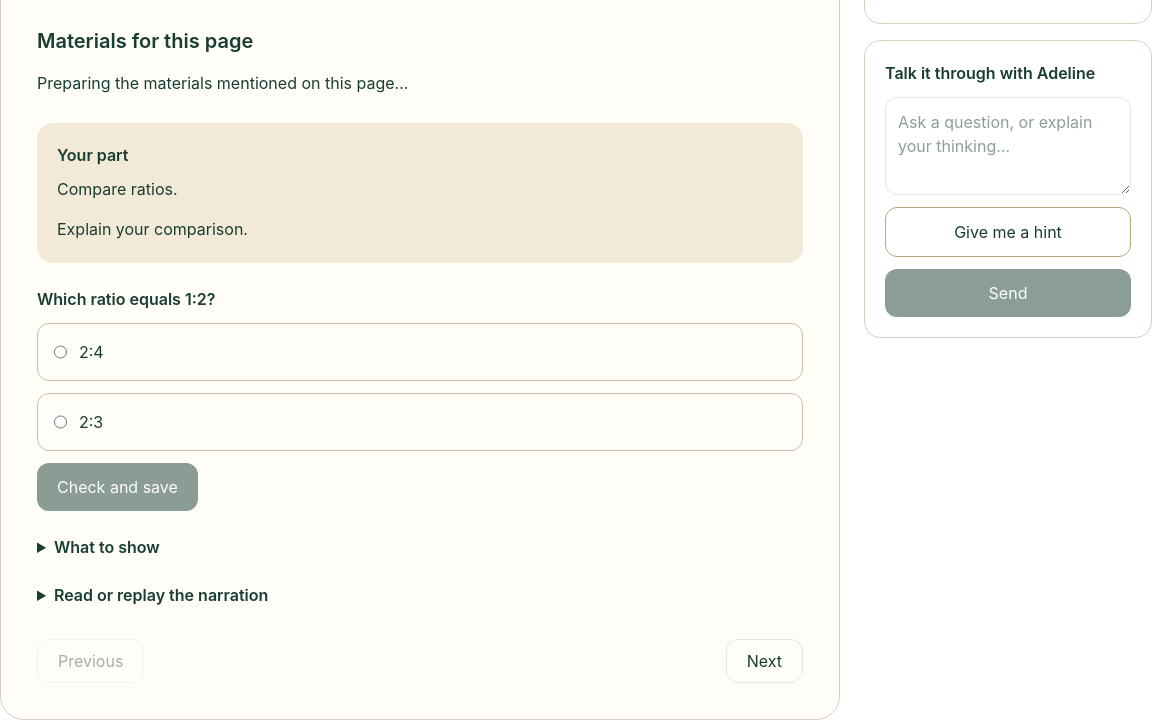
Scenario: Fresh classroom › loads actual promised examples and keeps a slow response on its original page
(page scrolled)
Click the button "Next": (764, 661) left=726, top=639, right=803, bottom=683
(page scrolled)
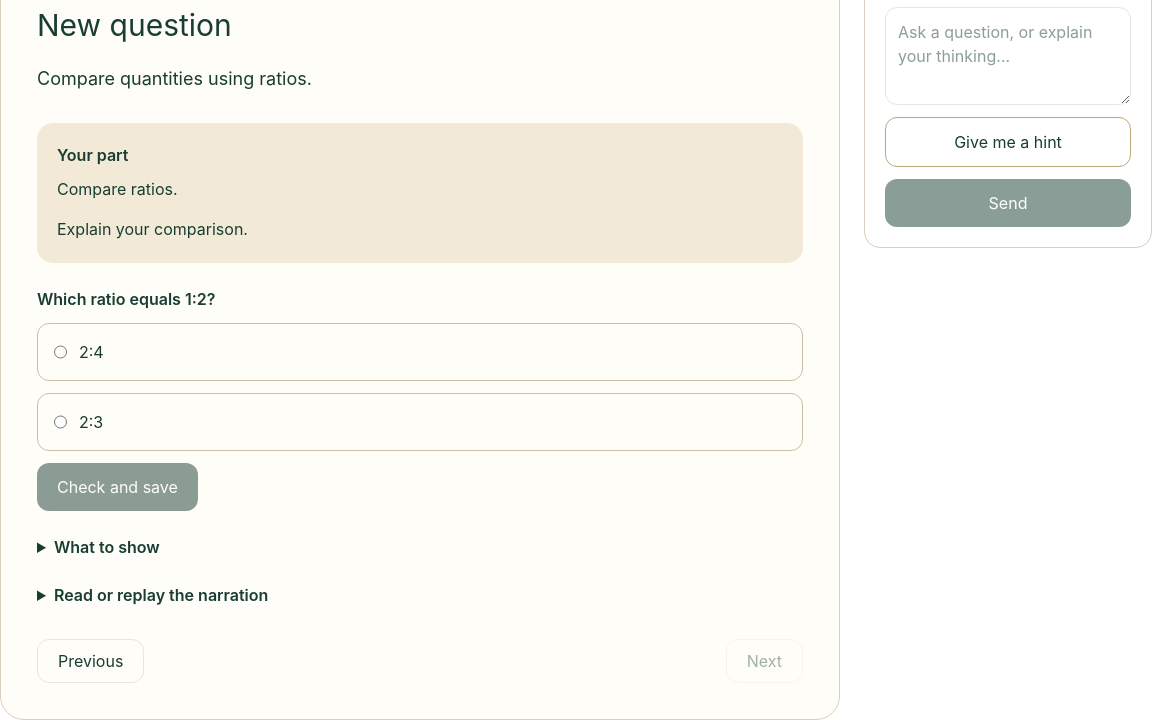
Check: the text "Ethos example" is not shown
Click the button "Previous": (91, 661) left=37, top=639, right=144, bottom=683
(page scrolled)
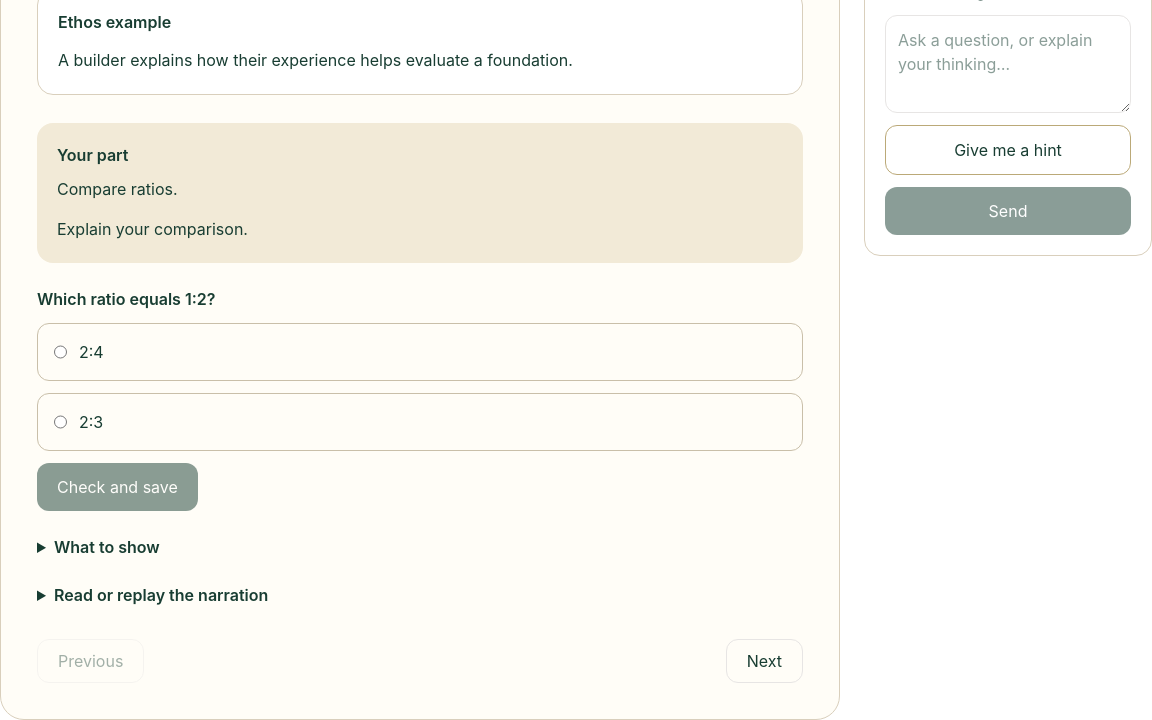
Check: the heading "Ethos example" is shown, box left=58, top=12, right=171, bottom=32
